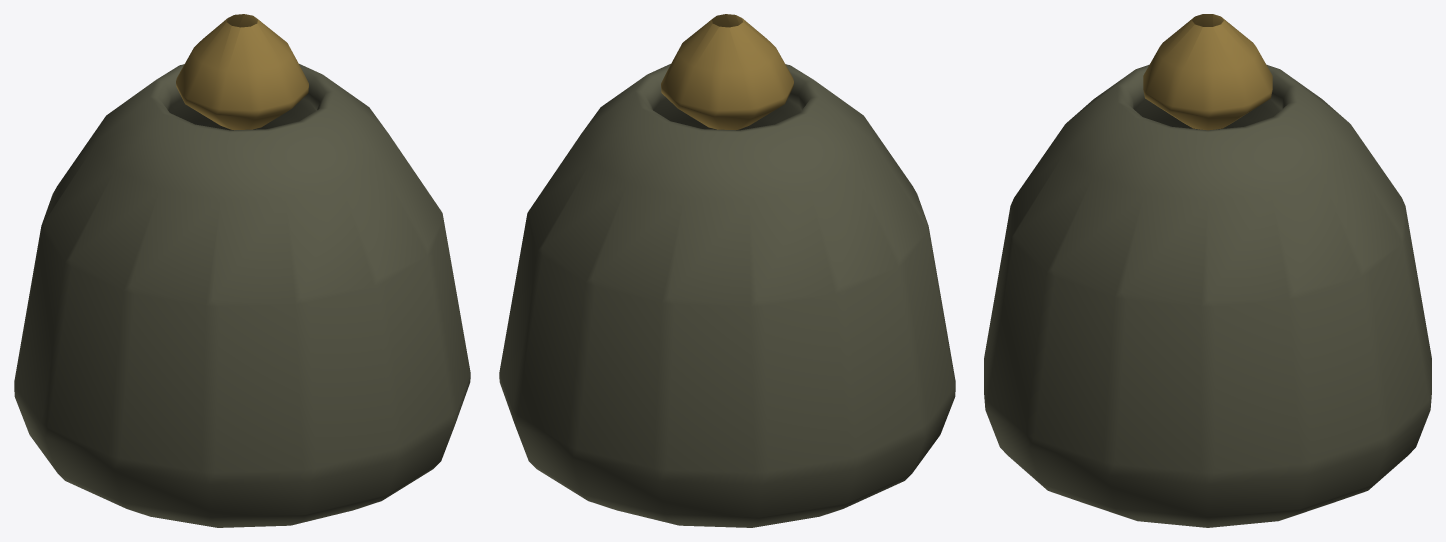
The model's file is study_screw_reliquary.obj.
3 renders of one model, left to right at view 1: azimuth 30°, elevation 25°; view 2: azimuth 150°, elevation 25°; view 3: azimuth 270°, elevation 25°, orthographic.
Visible parts, largest first — view 1: A_BodyProfile.001_oxidized_bronze, A_CrownProfile.001_ritual_gold; view 2: A_BodyProfile.001_oxidized_bronze, A_CrownProfile.001_ritual_gold; view 3: A_BodyProfile.001_oxidized_bronze, A_CrownProfile.001_ritual_gold.
Part boxes in pixels (x1=…): A_BodyProfile.001_oxidized_bronze: x1=14, y1=64, x2=470, y2=527; A_CrownProfile.001_ritual_gold: x1=176, y1=14, x2=308, y2=130; A_BodyProfile.001_oxidized_bronze: x1=499, y1=64, x2=955, y2=527; A_CrownProfile.001_ritual_gold: x1=661, y1=14, x2=793, y2=130; A_BodyProfile.001_oxidized_bronze: x1=984, y1=64, x2=1431, y2=527; A_CrownProfile.001_ritual_gold: x1=1143, y1=14, x2=1272, y2=130.
Size of the model in its own units: 1.62 by 1.72 by 1.59.
